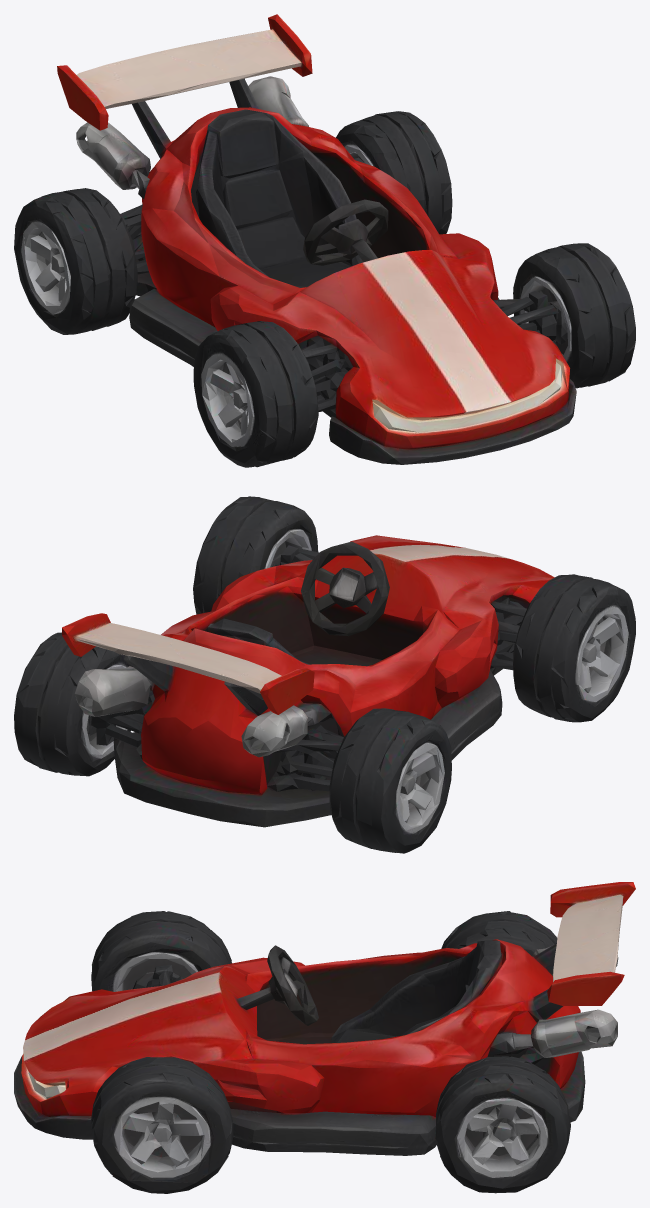
File: crimson-kart-parts-candidate.glb
3 views of the same model, one above another, from view 1: azimuth 30°, elevation 25°; view 2: azimuth 150°, elevation 25°; view 3: azimuth 270°, elevation 25° (orthographic). The views are drawn at different scales.
Visible parts, largest first — view 1: kart_body, wheel_front_xneg, wheel_rear_xneg, rear_wing, wheel_front_xpos, wheel_rear_xpos, exhaust_xneg, exhaust_xpos; view 2: kart_body, wheel_front_xneg, wheel_rear_xneg, wheel_rear_xpos, wheel_front_xpos, rear_wing, exhaust_xpos, exhaust_xneg; view 3: kart_body, wheel_front_xpos, wheel_rear_xpos, rear_wing, wheel_front_xneg, exhaust_xpos, wheel_rear_xneg.
Boxes of the visible parts, x1=… form: kart_body: x1=120, y1=78, x2=576, y2=464; wheel_front_xneg: x1=193, y1=321, x2=318, y2=467; wheel_rear_xneg: x1=14, y1=188, x2=137, y2=334; rear_wing: x1=57, y1=14, x2=312, y2=130; wheel_front_xpos: x1=513, y1=243, x2=635, y2=388; wheel_rear_xpos: x1=336, y1=111, x2=452, y2=234; exhaust_xneg: x1=76, y1=122, x2=150, y2=189; exhaust_xpos: x1=248, y1=76, x2=308, y2=126; kart_body: x1=89, y1=535, x2=554, y2=827; wheel_front_xneg: x1=513, y1=574, x2=635, y2=722; wheel_rear_xneg: x1=329, y1=708, x2=451, y2=853; wheel_rear_xpos: x1=14, y1=632, x2=133, y2=776; wheel_front_xpos: x1=193, y1=496, x2=318, y2=614; rear_wing: x1=62, y1=613, x2=314, y2=714; exhaust_xpos: x1=74, y1=666, x2=150, y2=716; exhaust_xneg: x1=241, y1=705, x2=307, y2=757; kart_body: x1=14, y1=939, x2=585, y2=1155; wheel_front_xpos: x1=91, y1=1057, x2=233, y2=1193; wheel_rear_xpos: x1=435, y1=1056, x2=570, y2=1193; rear_wing: x1=547, y1=882, x2=635, y2=1005; wheel_front_xneg: x1=91, y1=911, x2=231, y2=991; exhaust_xpos: x1=531, y1=1009, x2=617, y2=1057; wheel_rear_xneg: x1=441, y1=911, x2=557, y2=955.
Bounding box in the file's own units: 2.56 × 1.29 × 3.9.
1 material, 1 textured.
